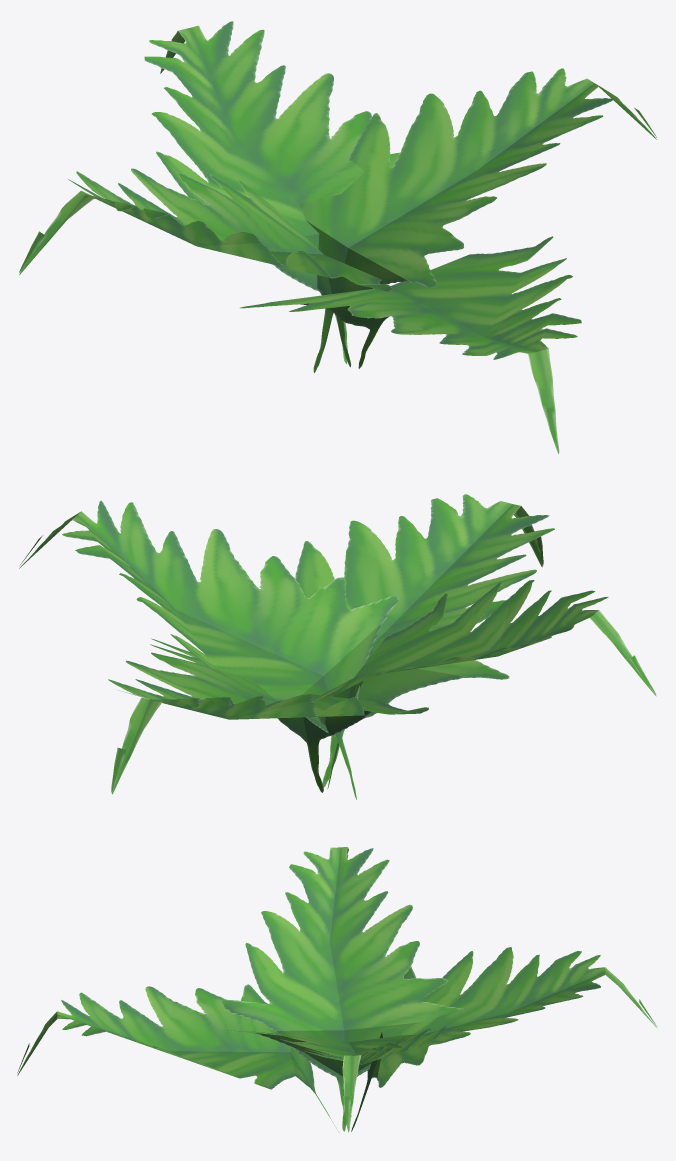
The model's file is Samambaia_01.fbx.
3 views of the same model, one above another, from view 1: azimuth 30°, elevation 25°; view 2: azimuth 150°, elevation 25°; view 3: azimuth 270°, elevation 25° (orthographic). The views are drawn at different scales.
Parts seen in each view (by area): view 1: SM_Fern_02; view 2: SM_Fern_02; view 3: SM_Fern_02.
Part boxes in pixels (left/top/right/bottom): SM_Fern_02: left=19, top=21, right=656, bottom=453; SM_Fern_02: left=19, top=494, right=656, bottom=799; SM_Fern_02: left=17, top=847, right=656, bottom=1132.
Size of the model in its own units: 28.2 by 10.76 by 31.6.
